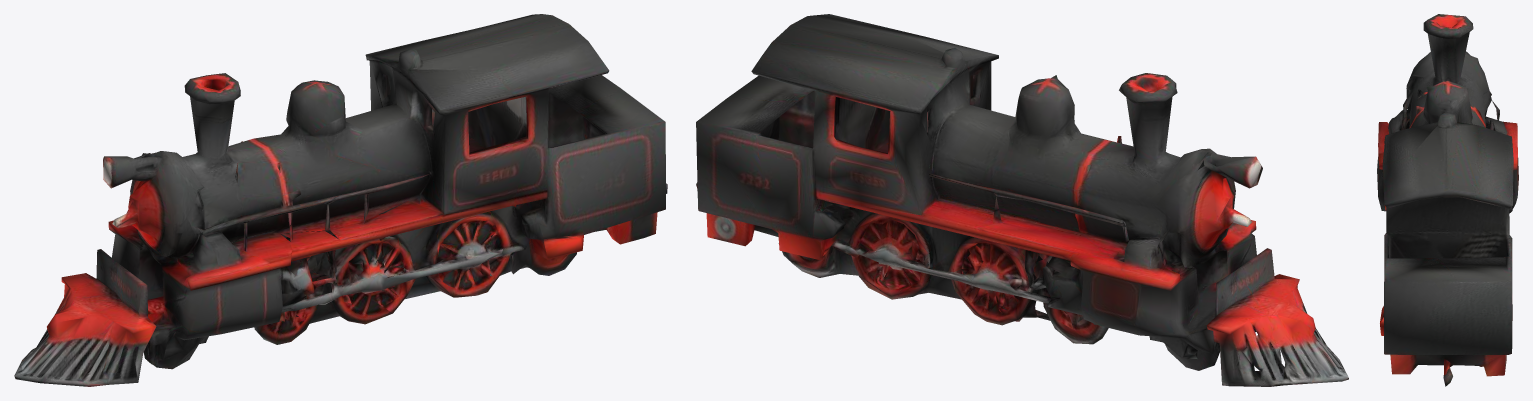
File: train.glb
3 views of the same model, side by side, from view 1: azimuth 30°, elevation 25°; view 2: azimuth 150°, elevation 25°; view 3: azimuth 270°, elevation 25° (orthographic). The views are drawn at different scales.
Visible parts, largest first — view 1: Mesh_0; view 2: Mesh_0; view 3: Mesh_0.
Boxes of the visible parts, x1,y1,x2,y2 form: Mesh_0: [14, 14, 667, 386]; Mesh_0: [696, 14, 1348, 386]; Mesh_0: [1377, 14, 1518, 386].
Bounding box in the file's own units: 2 × 0.7445 × 0.4546.
Materials: 1 (1 with a texture image).
